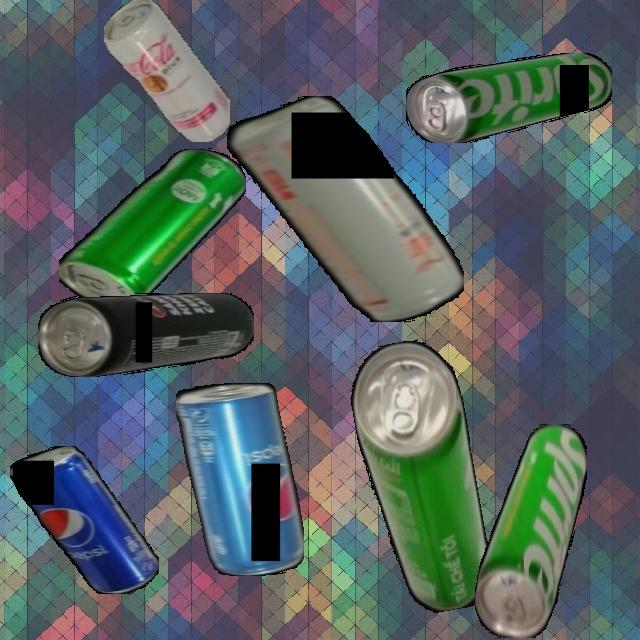debris: (226, 96, 464, 322), (343, 334, 498, 620), (58, 148, 246, 310), (175, 383, 304, 576), (474, 423, 587, 638), (9, 446, 159, 594), (406, 52, 612, 143), (38, 292, 254, 377), (103, 0, 230, 142)
